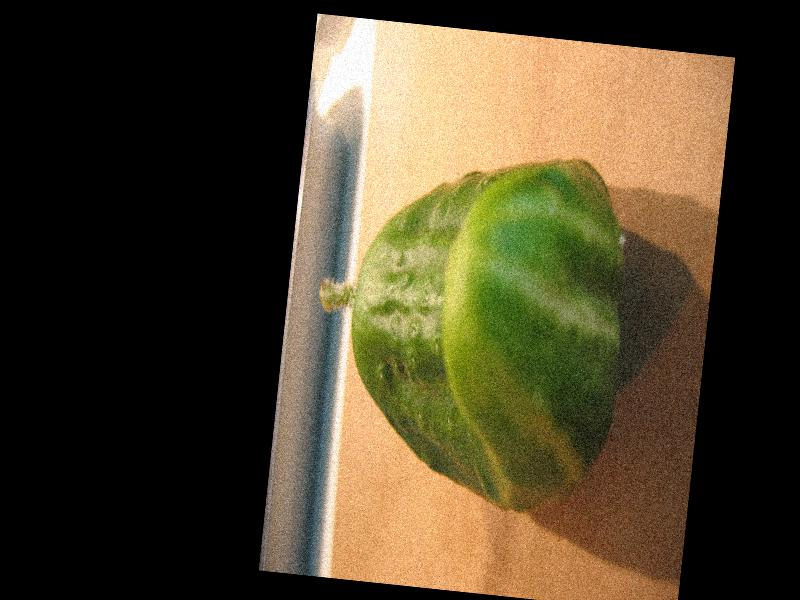Cucumber: (298, 130, 641, 517)
